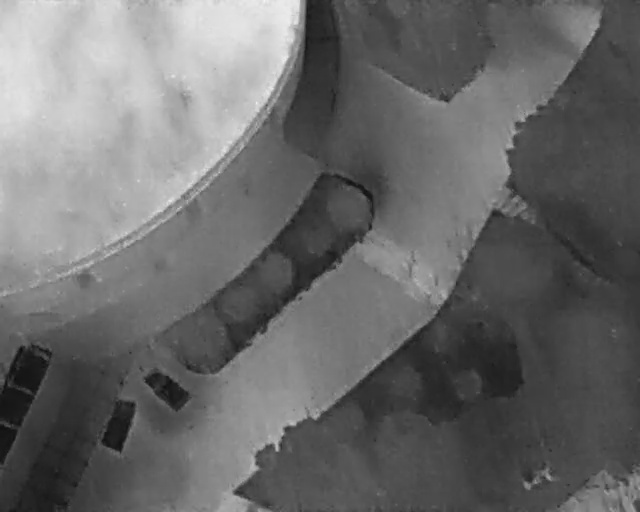OtherVehicle: (137, 360, 196, 417), (97, 391, 141, 457)
